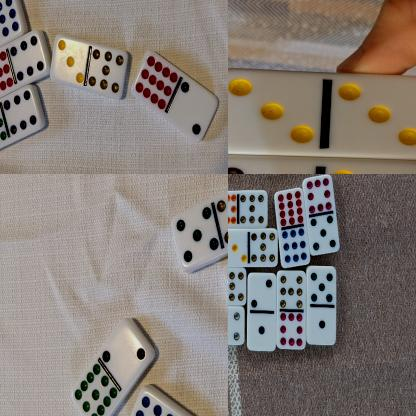pip-1: (247, 312, 276, 353)
pip-10: (228, 190, 239, 228)
pip-11: (71, 363, 118, 416)
pip-12: (132, 50, 178, 115), (274, 189, 306, 228), (0, 52, 14, 102)
pip-2: (102, 322, 150, 382), (177, 81, 219, 144), (248, 273, 278, 313)
pip-3: (228, 70, 327, 155), (329, 74, 416, 154), (50, 36, 88, 88), (228, 228, 249, 268)
pip-4: (228, 307, 245, 345)
pip-5: (170, 207, 218, 270), (309, 215, 341, 257), (307, 268, 338, 306)
pip-6: (5, 88, 42, 138), (11, 35, 46, 82)
pip-7: (89, 45, 128, 100), (277, 269, 307, 310), (238, 189, 269, 228), (250, 229, 280, 268), (228, 267, 247, 307), (217, 184, 228, 245)
pip-8: (303, 175, 334, 216), (307, 306, 337, 346), (277, 312, 307, 351)
pip-9: (279, 228, 311, 270), (125, 392, 174, 416), (0, 0, 21, 44)
